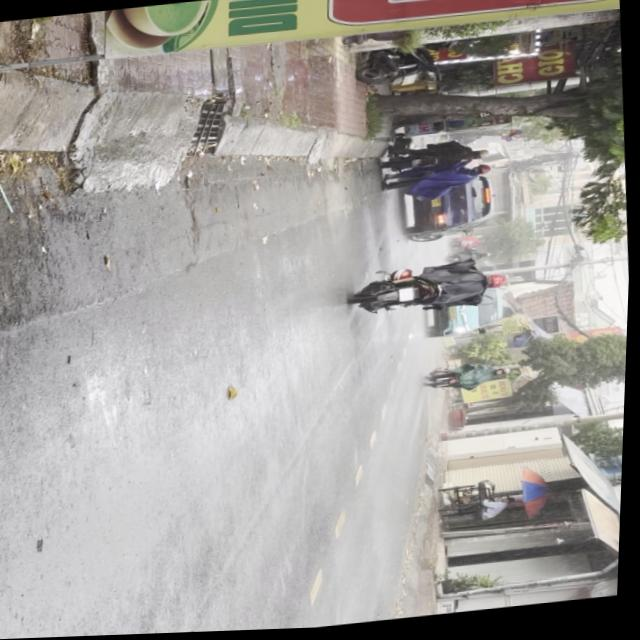helmet: (487, 277, 511, 294)
licenseplate: (350, 262, 514, 322)
nohelmet: (400, 291, 416, 304)
